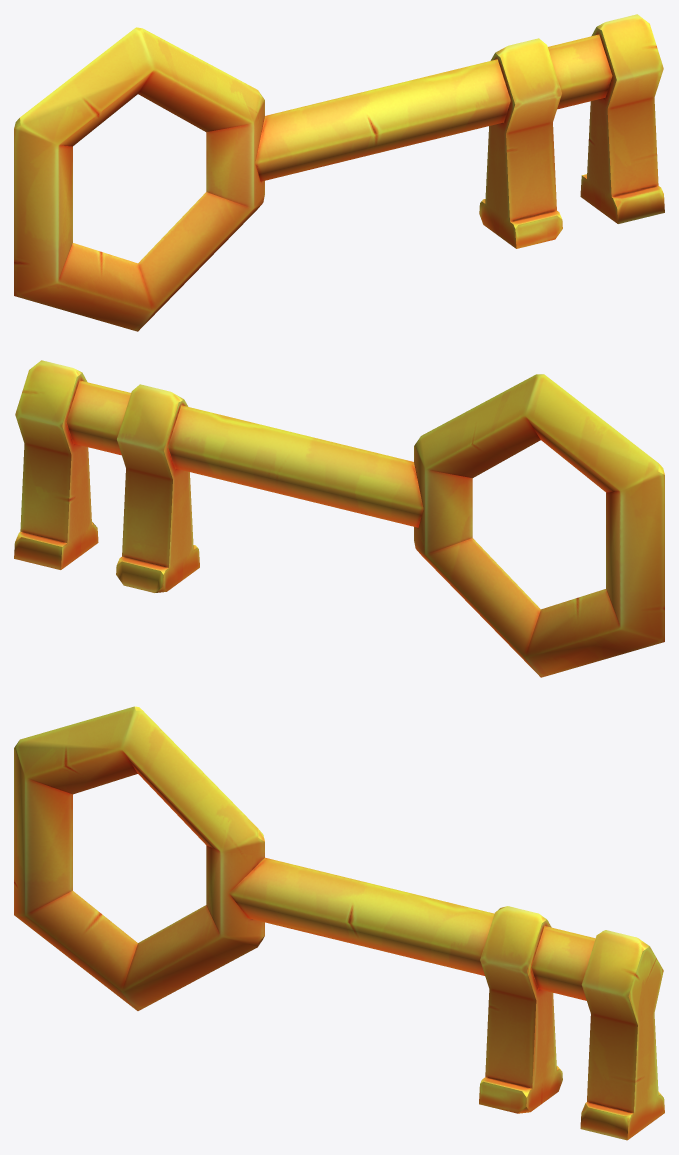
File: SM_Golden_Key.fbx
3 views of the same model, one above another, from view 1: azimuth 30°, elevation 25°; view 2: azimuth 150°, elevation 25°; view 3: azimuth 330°, elevation 25° (orthographic).
Parts seen in each view (by area): view 1: SM_Golden_Key_LOD0; view 2: SM_Golden_Key_LOD0; view 3: SM_Golden_Key_LOD0.
Part boxes in pixels (x1=…): SM_Golden_Key_LOD0: x1=14, y1=14, x2=664, y2=331; SM_Golden_Key_LOD0: x1=14, y1=360, x2=664, y2=677; SM_Golden_Key_LOD0: x1=14, y1=706, x2=664, y2=1140.
Size of the model in its own units: 37.72 by 3.88 by 17.34.
1 material, 1 textured.
